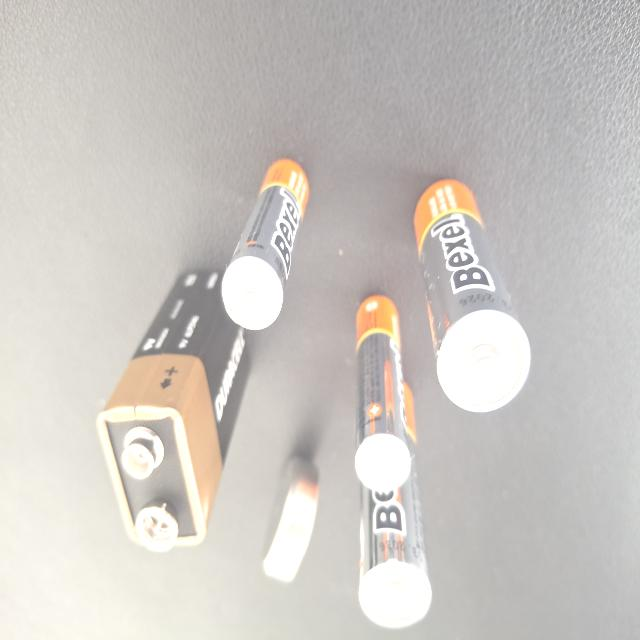9V: (391, 90, 541, 368)
AA: (110, 228, 226, 461), (208, 11, 280, 258)
AAA: (332, 310, 418, 480), (230, 150, 284, 344)
COIN: (322, 59, 376, 183)
